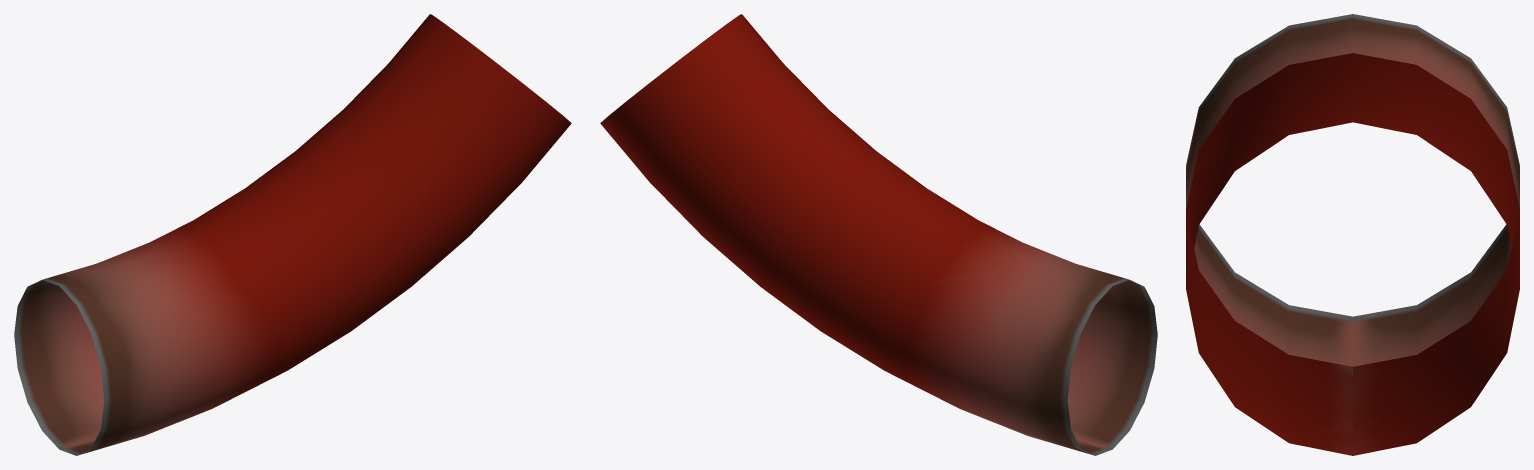
The model's file is pipe01_crn_48a.fbx.
3 renders of one model, left to right at view 1: azimuth 30°, elevation 25°; view 2: azimuth 150°, elevation 25°; view 3: azimuth 270°, elevation 25°, orthographic. The views are drawn at different scales.
Parts seen in each view (by area): view 1: pipe01_crn_48a; view 2: pipe01_crn_48a; view 3: pipe01_crn_48a.
Boxes of the visible parts, x1=… form: pipe01_crn_48a: x1=14, y1=14, x2=571, y2=455; pipe01_crn_48a: x1=600, y1=14, x2=1157, y2=455; pipe01_crn_48a: x1=1186, y1=14, x2=1519, y2=455.
Size of the model in its own units: 38.18 by 24.3 by 12.
